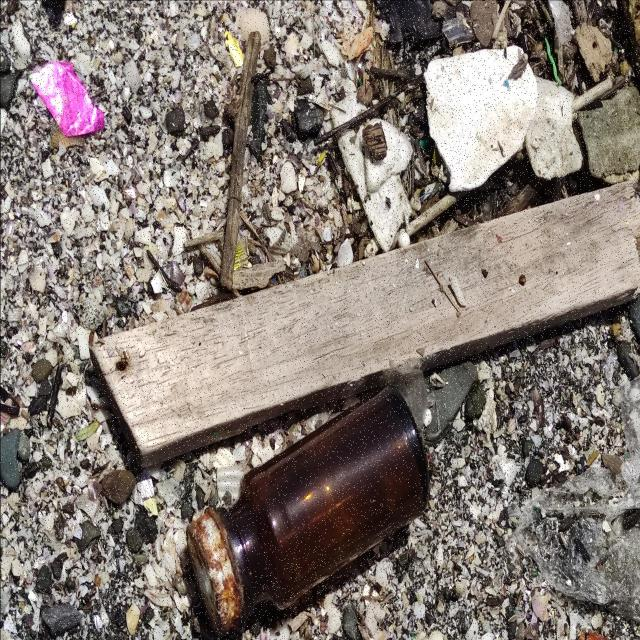glass_waste: (186, 381, 433, 640)
plastic_waste: (28, 61, 106, 139)
wood_waste: (89, 176, 640, 474)
